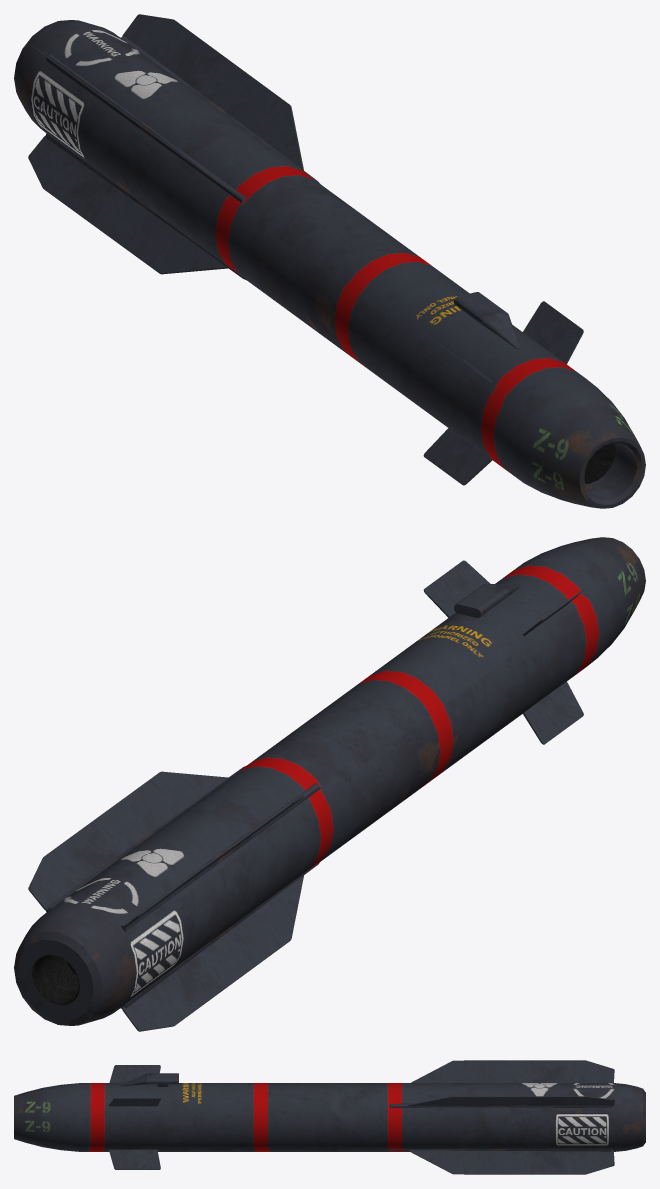
File: hellfire.glb
3 views of the same model, one above another, from view 1: azimuth 30°, elevation 25°; view 2: azimuth 150°, elevation 25°; view 3: azimuth 270°, elevation 25° (orthographic). The views are drawn at different scales.
Parts seen in each view (by area): view 1: Object_3; view 2: Object_3; view 3: Object_3.
Boxes of the visible parts, <box> form: Object_3: <box>14,14,645,508</box>; Object_3: <box>14,537,645,1031</box>; Object_3: <box>14,1060,645,1174</box>.
Size of the model in its own units: 1.61 by 1.66 by 11.82.
1 material, 1 textured.
